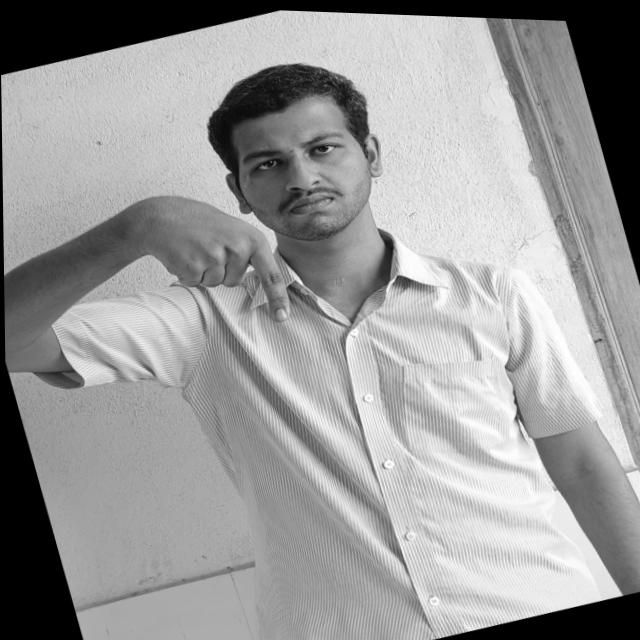Now: (132, 176, 294, 350)
